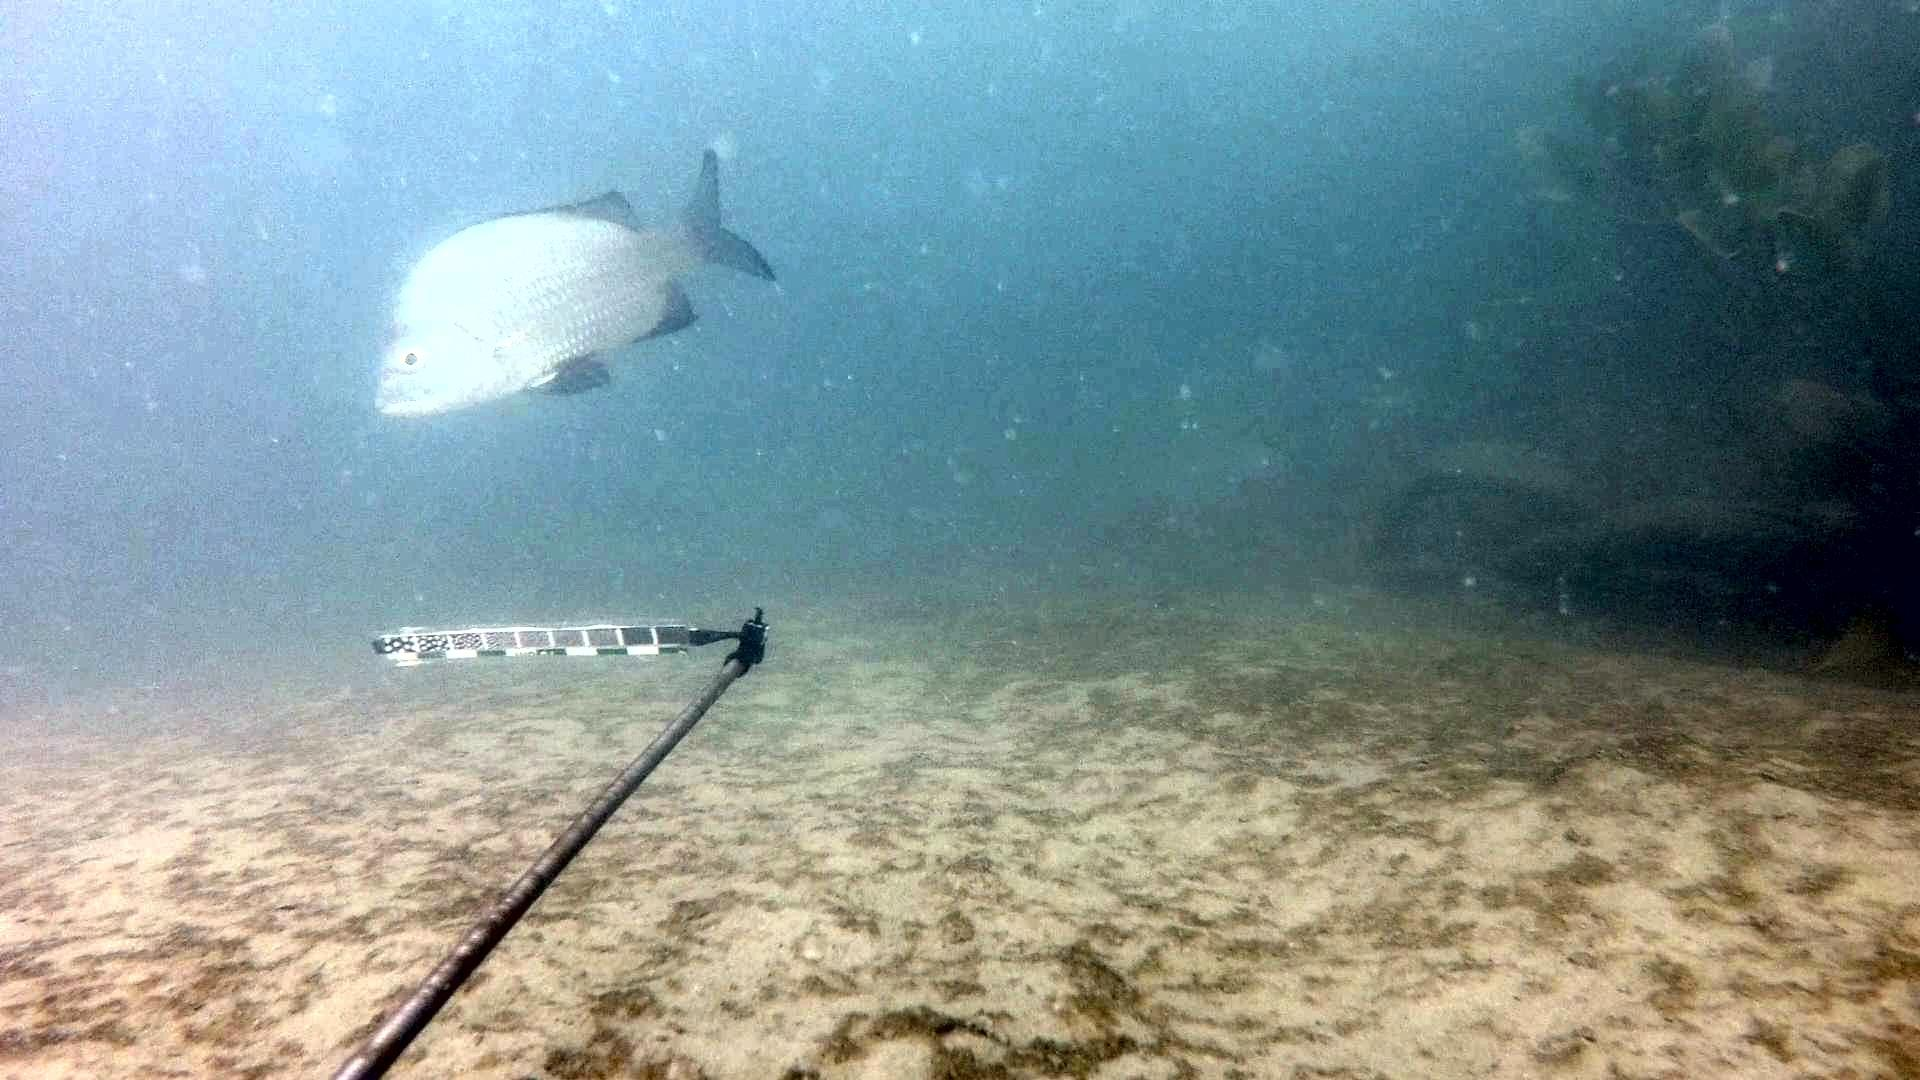acanthopagrus palmaris: (363, 139, 787, 431)
